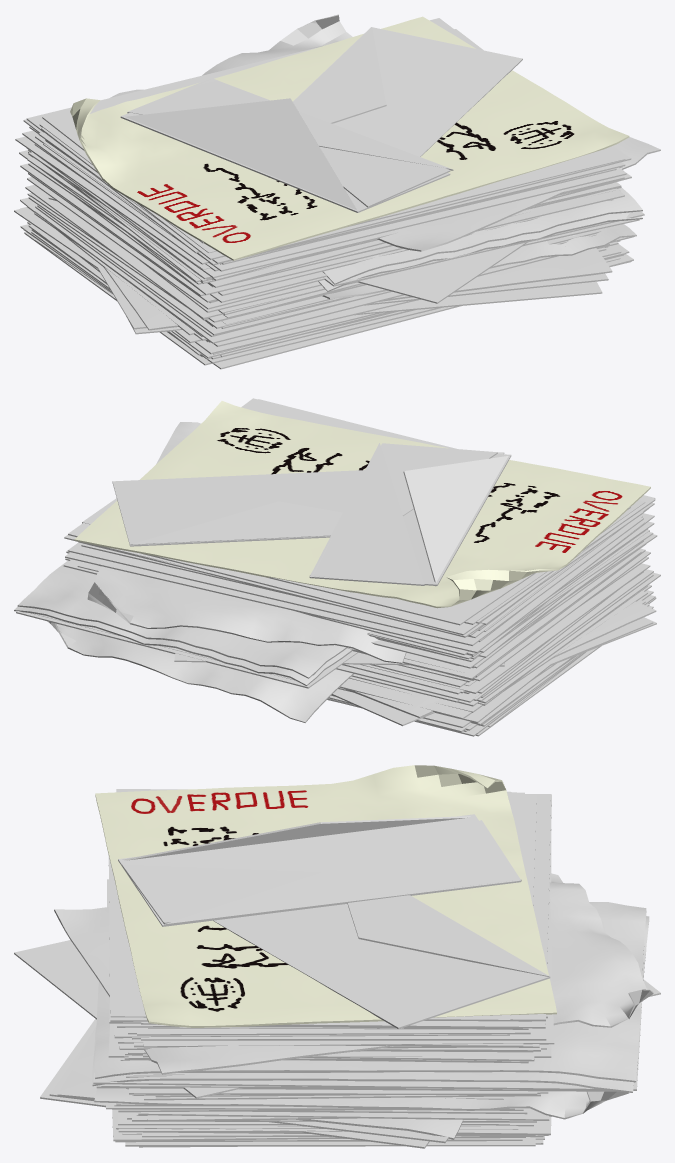
The model's file is bills.fbx.
3 renders of one model, top to bottom at view 1: azimuth 30°, elevation 25°; view 2: azimuth 150°, elevation 25°; view 3: azimuth 270°, elevation 25°, orthographic. The views are drawn at different scales.
Parts seen in each view (by area): view 1: Plane.306, Plane.310, Plane.311, Plane.308, Plane.309, Plane.313, Plane.250, Plane.190, Plane.314, Plane.231, Plane.285, Plane.304 (+44 smaller); view 2: Plane.306, Plane.308, Plane.310, Plane.313, Plane.250, Plane.207, Plane.311, Plane.309, Plane.284, Plane.278, Plane.314, Plane.303 (+29 smaller); view 3: Plane.306, Plane.310, Plane.308, Plane.250, Plane.313, Plane.312, Plane.309, Plane.314, Plane.207, Plane.307, Plane.231, Plane.234 (+36 smaller).
Part boxes in pixels (bbox=[...]): Plane.306: bbox=[70, 16, 629, 260]; Plane.310: bbox=[293, 27, 522, 156]; Plane.311: bbox=[125, 98, 356, 209]; Plane.308: bbox=[202, 15, 660, 251]; Plane.309: bbox=[293, 27, 386, 123]; Plane.313: bbox=[127, 78, 452, 170]; Plane.250: bbox=[110, 89, 642, 284]; Plane.190: bbox=[104, 248, 612, 330]; Plane.314: bbox=[210, 78, 450, 207]; Plane.231: bbox=[48, 196, 527, 303]; Plane.285: bbox=[43, 143, 626, 271]; Plane.304: bbox=[41, 29, 625, 259]; Plane.306: bbox=[74, 401, 650, 608]; Plane.308: bbox=[87, 422, 504, 663]; Plane.310: bbox=[112, 470, 364, 546]; Plane.313: bbox=[309, 443, 424, 585]; Plane.250: bbox=[17, 560, 347, 678]; Plane.207: bbox=[47, 621, 353, 722]; Plane.311: bbox=[403, 456, 508, 586]; Plane.309: bbox=[130, 501, 342, 544]; Plane.284: bbox=[67, 517, 643, 645]; Plane.278: bbox=[65, 521, 644, 653]; Plane.314: bbox=[311, 443, 497, 576]; Plane.303: bbox=[68, 523, 523, 635]; Plane.306: bbox=[95, 765, 556, 1027]; Plane.310: bbox=[213, 895, 550, 1029]; Plane.308: bbox=[54, 873, 653, 1074]; Plane.250: bbox=[94, 902, 646, 1082]; Plane.313: bbox=[164, 820, 521, 925]; Plane.312: bbox=[118, 814, 518, 926]; Plane.309: bbox=[347, 895, 549, 976]; Plane.314: bbox=[122, 864, 521, 923]; Plane.207: bbox=[94, 1088, 629, 1119]; Plane.307: bbox=[92, 916, 649, 1092]; Plane.231: bbox=[14, 940, 660, 1098]; Plane.234: bbox=[93, 1001, 642, 1090].
Size of the model in its own units: 3.61 by 1.11 by 3.5.
3 materials, 1 textured.
